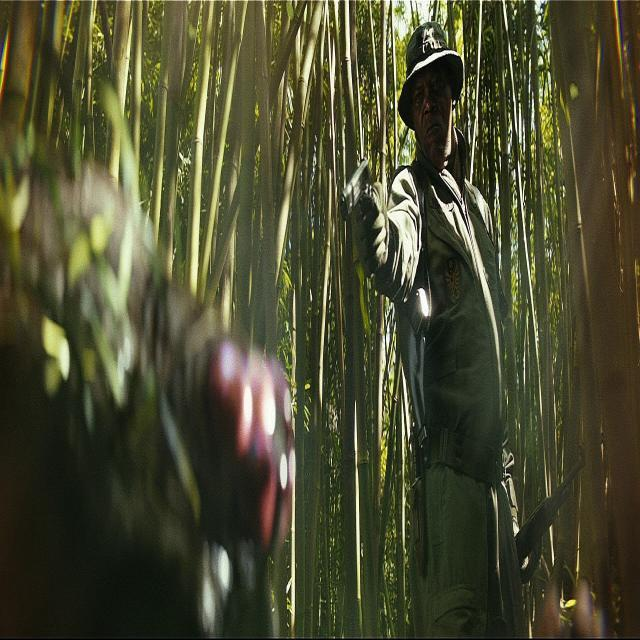gun-knife-thesis - v11 Yolov5 augmented: (339, 142, 389, 286)
